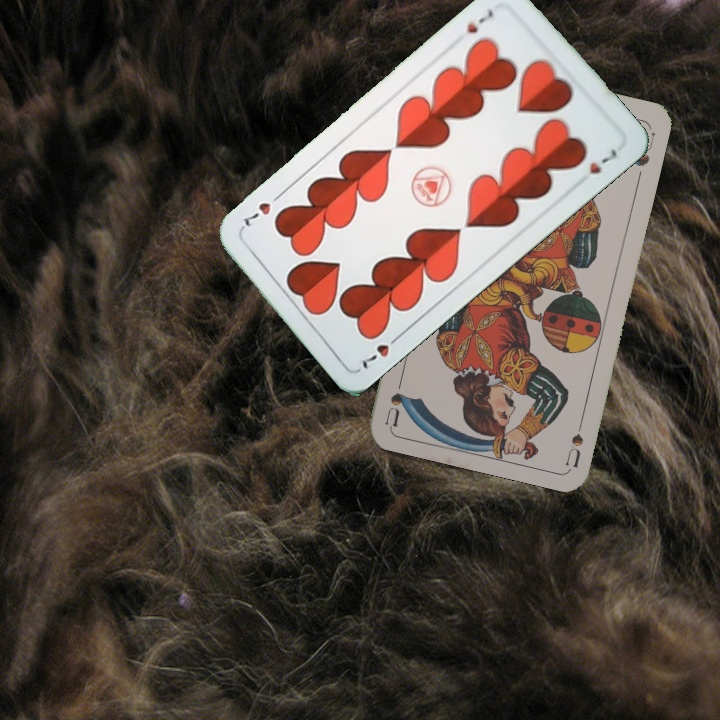H7: (357, 329, 405, 372), (462, 4, 496, 36)
SU: (561, 409, 588, 468)
